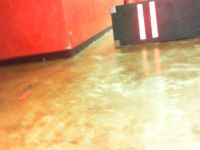switch: (149, 2, 160, 39), (136, 3, 146, 41)
